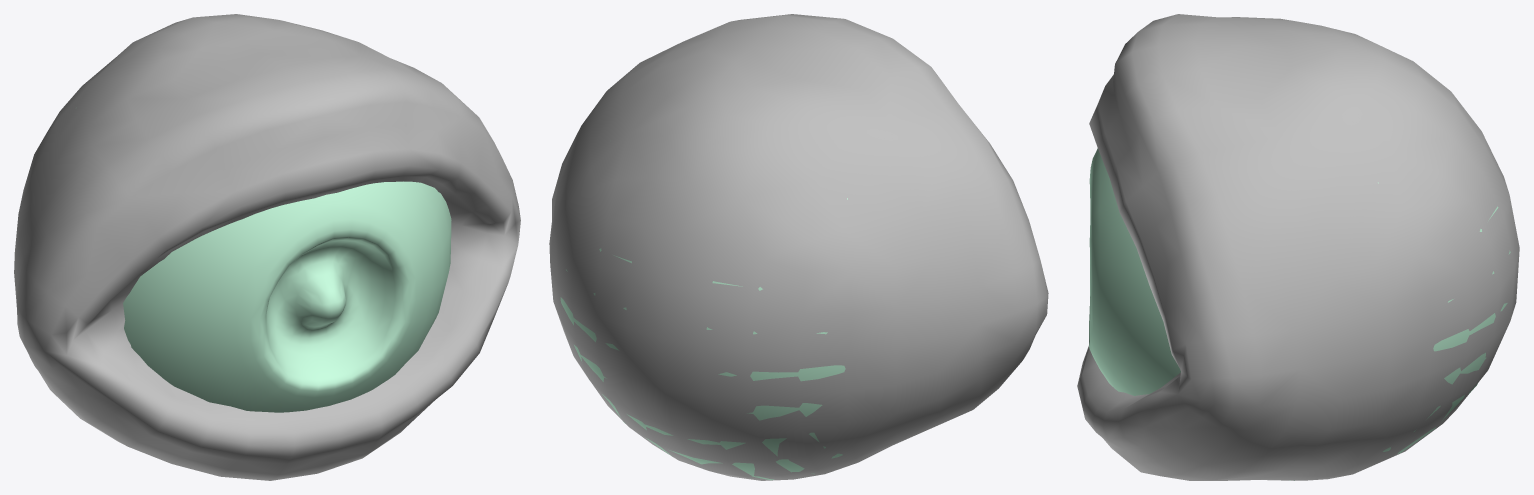
The model's file is eye_low_FromBlender.fbx.
The picture shows the model from 3 angles, left to right: view 1: azimuth 30°, elevation 25°; view 2: azimuth 150°, elevation 25°; view 3: azimuth 270°, elevation 25°; orthographic projection. The views are drawn at different scales.
Visible parts, largest first — view 1: mabuta_low, eye_low; view 2: mabuta_low, eye_low; view 3: mabuta_low, eye_low.
Boxes of the visible parts, box(x1,y1,x2,y2) form: mabuta_low: box(14, 14, 520, 480); eye_low: box(76, 107, 451, 412); mabuta_low: box(549, 14, 1048, 480); eye_low: box(560, 198, 847, 480); mabuta_low: box(1077, 14, 1519, 480); eye_low: box(1089, 148, 1510, 480).
Bounding box in the file's own units: 177 × 139 × 134.
